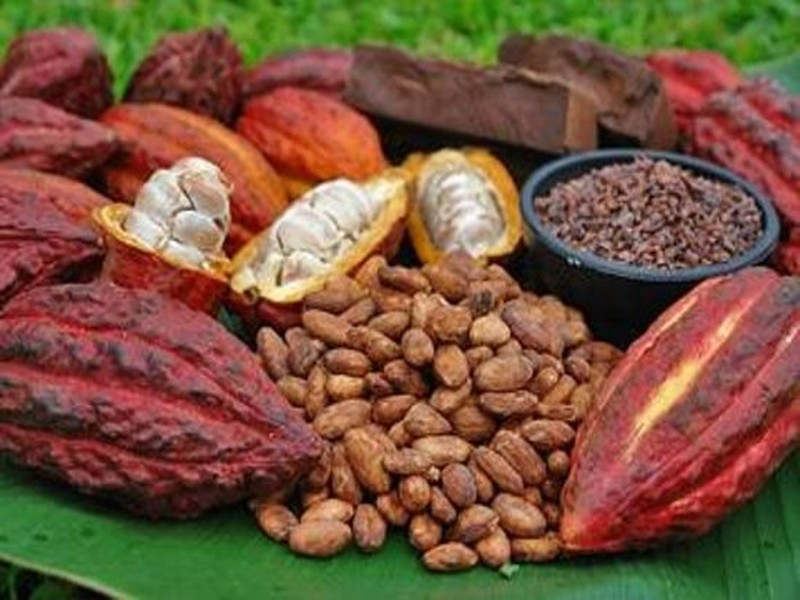Cacaopod: (1, 283, 320, 517), (555, 266, 800, 562)
